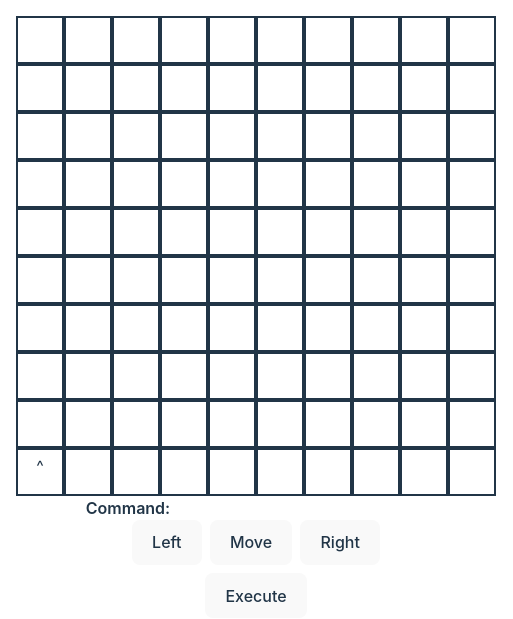
Test: App should › Adds L to the command when we click Left
Click the button "Left" at (167, 542), box x1=132 y1=520 x2=202 y2=565
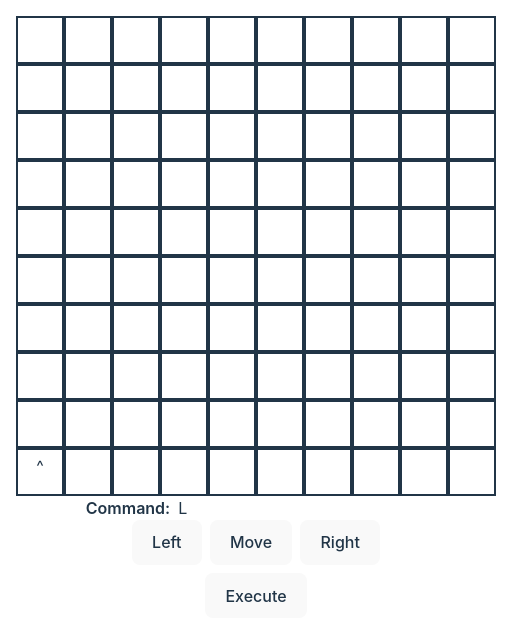
Expected: the field labelled "Command:" holds "L", x1=178 y1=496 x2=426 y2=520
